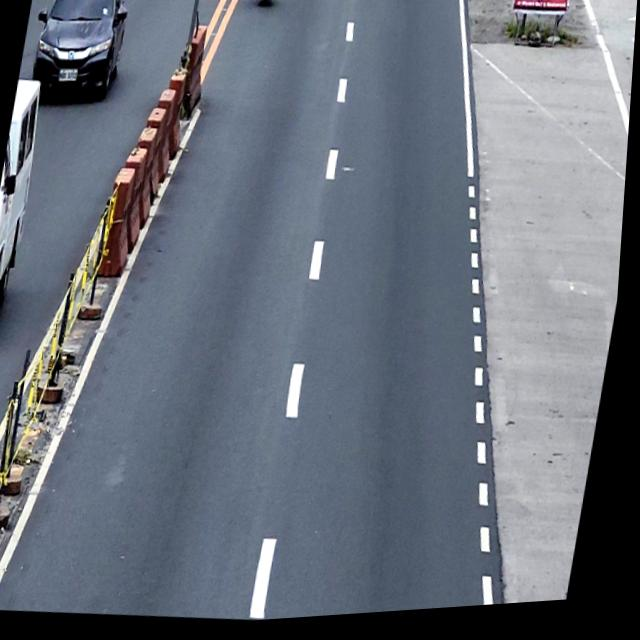Car: (0, 74, 49, 342), (23, 0, 133, 106)
License-Plate: (57, 65, 80, 85)
Motorcycle: (253, 0, 279, 10)
